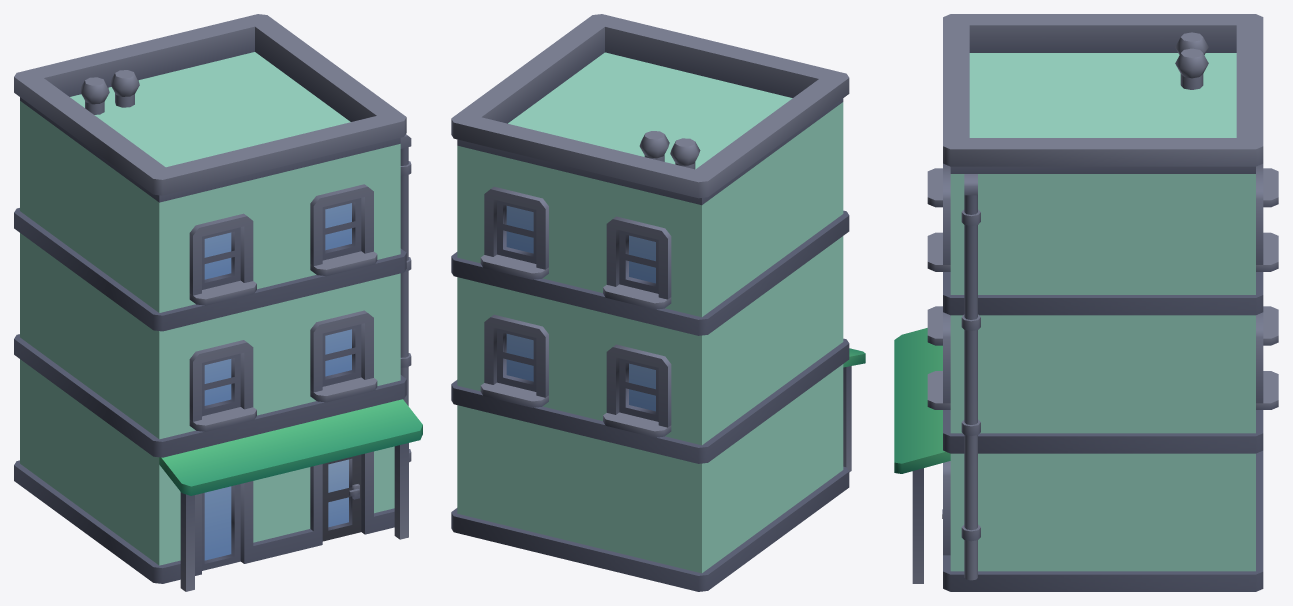
Rendered from small_buildingD1.glb.
The picture shows the model from 3 angles, left to right: view 1: azimuth 30°, elevation 25°; view 2: azimuth 150°, elevation 25°; view 3: azimuth 270°, elevation 25°; orthographic projection. The views are drawn at different scales.
Parts seen in each view (by area): view 1: small_buildingD1; view 2: small_buildingD1; view 3: small_buildingD1.
Boxes of the visible parts, box(x1,y1,x2,y2) form: small_buildingD1: box(14, 14, 422, 591); small_buildingD1: box(451, 14, 865, 591); small_buildingD1: box(894, 14, 1278, 591).
Bounding box in the file's own units: 0.8836 × 1.29 × 1.01.
Materials: 2 (1 with a texture image).
